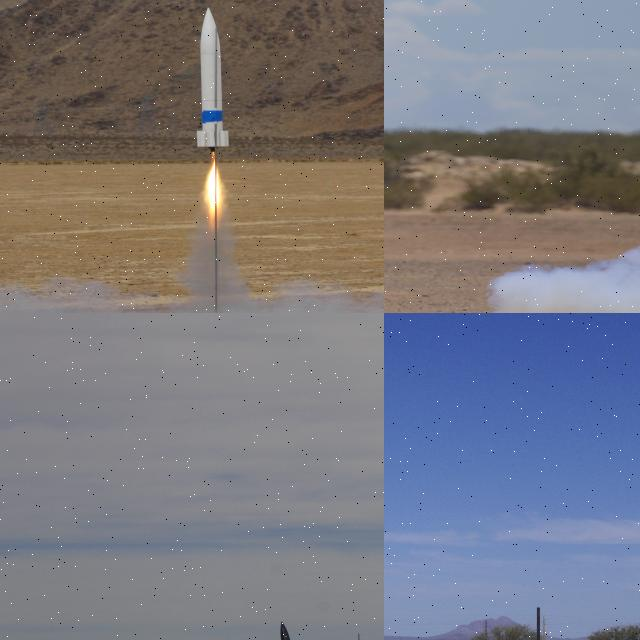Rocket: (197, 6, 230, 153), (279, 620, 314, 640)
